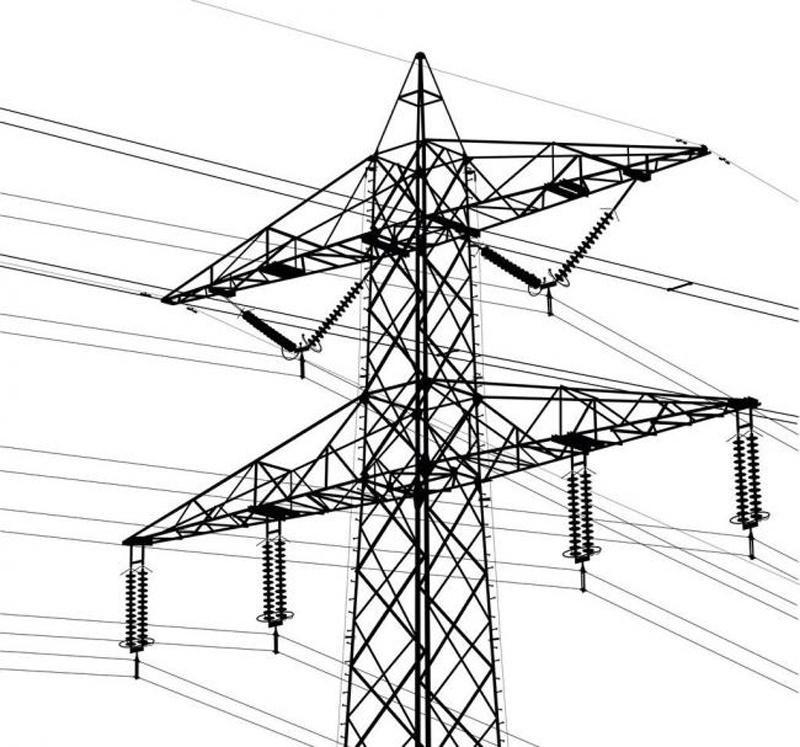power_tower: (92, 50, 777, 747)
